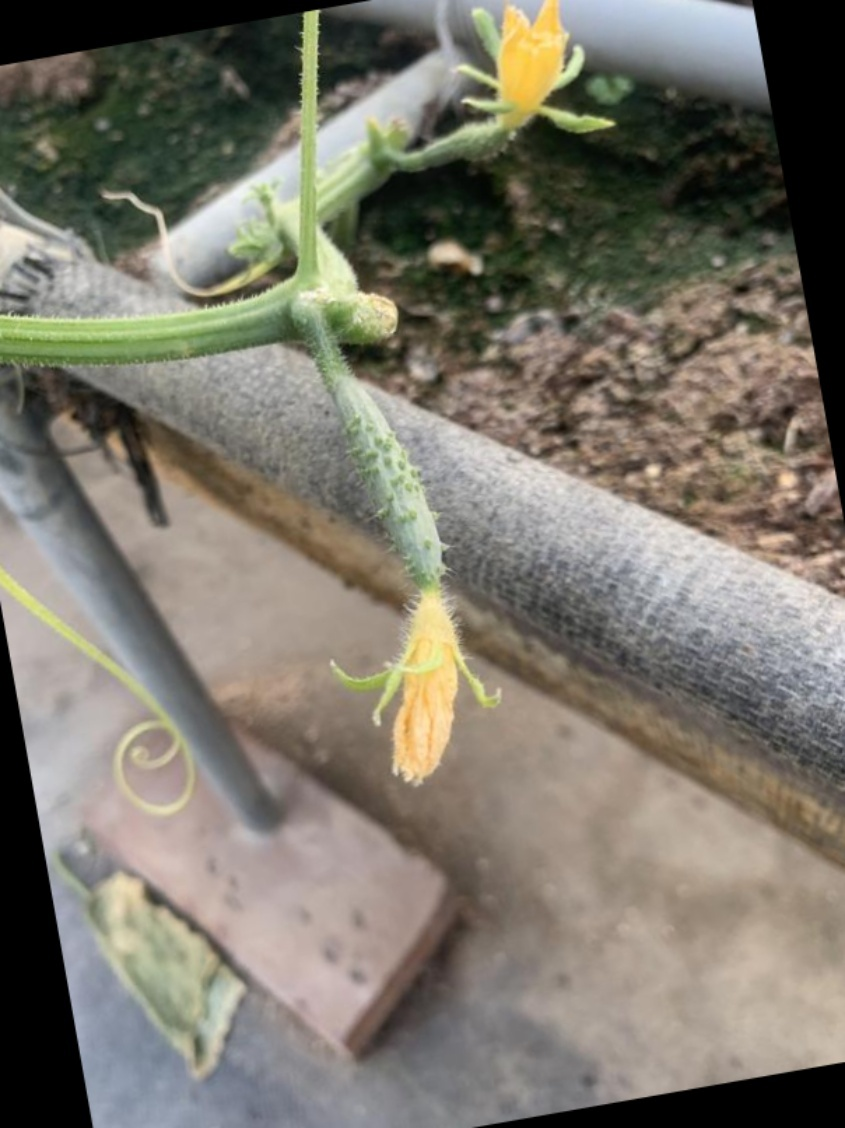bear: (411, 1, 608, 180)
